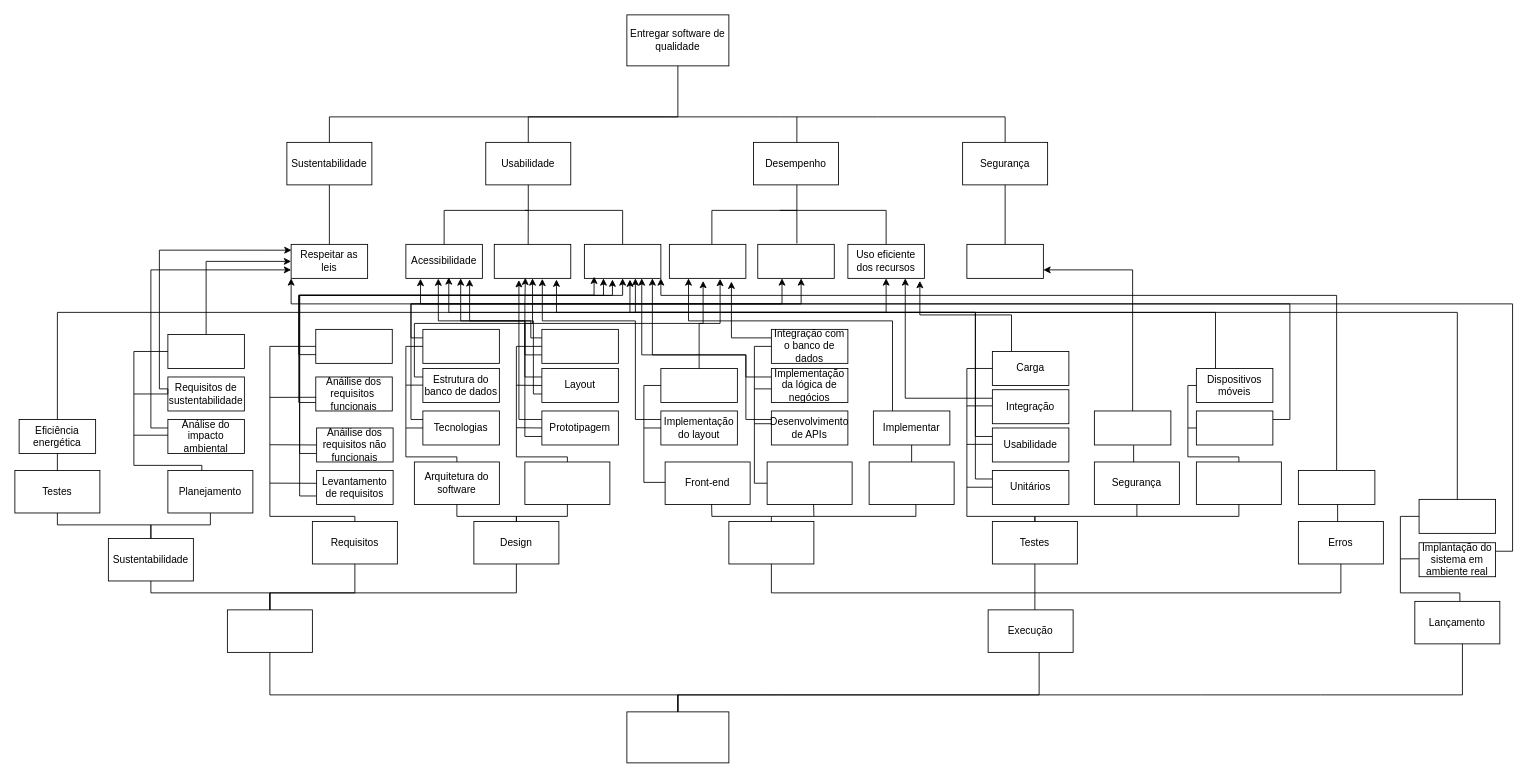
This 1534x778 diagram has some shape labels left out. The centre of each missing label's shape, as x and y in pixels:
Atende aos requisitos: the point at 622,261
Back-end: the point at 809,482
Banco de dados: the point at 911,482
Compatibilidade: the point at 1238,482
Controle de acesso: the point at 1004,261
Correção: the point at 1336,487
Definição: the point at 269,630
Desenvolvimento: the point at 771,542
Design de experiência do usuário (UX): the point at 579,346
Escalabilidade: the point at 795,261
Estrutura de servidores e hospedagem: the point at 460,346
Infraestrutura: the point at 205,351
Integração com o back-end: the point at 698,385
Interface do usuário (UI): the point at 567,482
Interface intuitiva: the point at 532,261
Navegadores: the point at 1234,427
Reunião de conclusão: the point at 1457,516
SGO: the point at 677,737
Tempo de resposta: the point at 707,261
Teste de vulnerabilidade: the point at 1132,427
Validação dos requisitos: the point at 353,346
